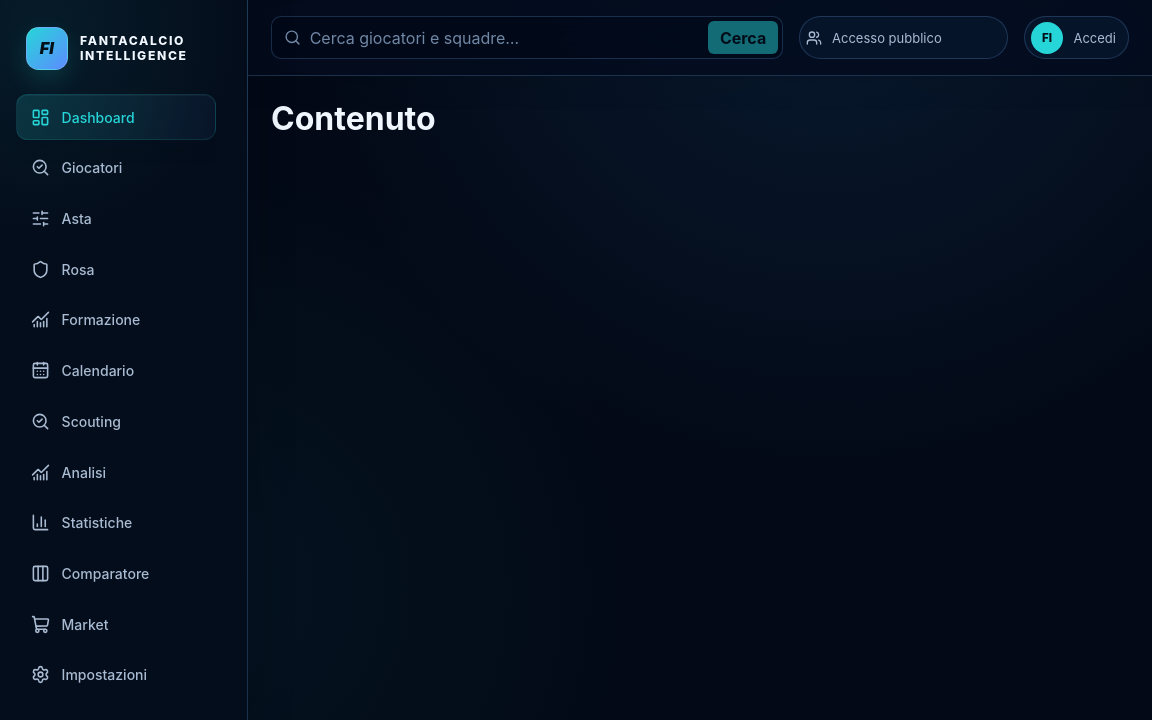
Scenario: P01 global search › supporta il pulsante, loading e zero risultati
The image size is (1152, 720).
Type "Nessuno" into the search field at (527, 38), box [271,16,783,59]
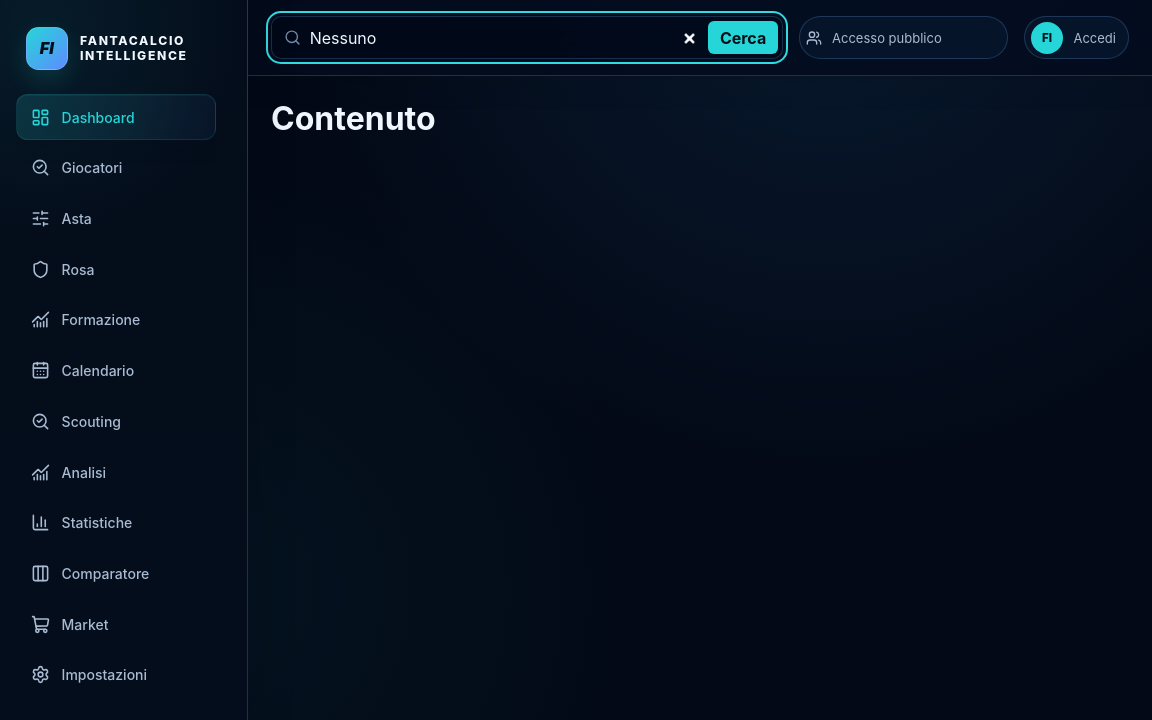
Click the button with aria-label "Avvia ricerca" at (743, 38), box [708,21,778,54]
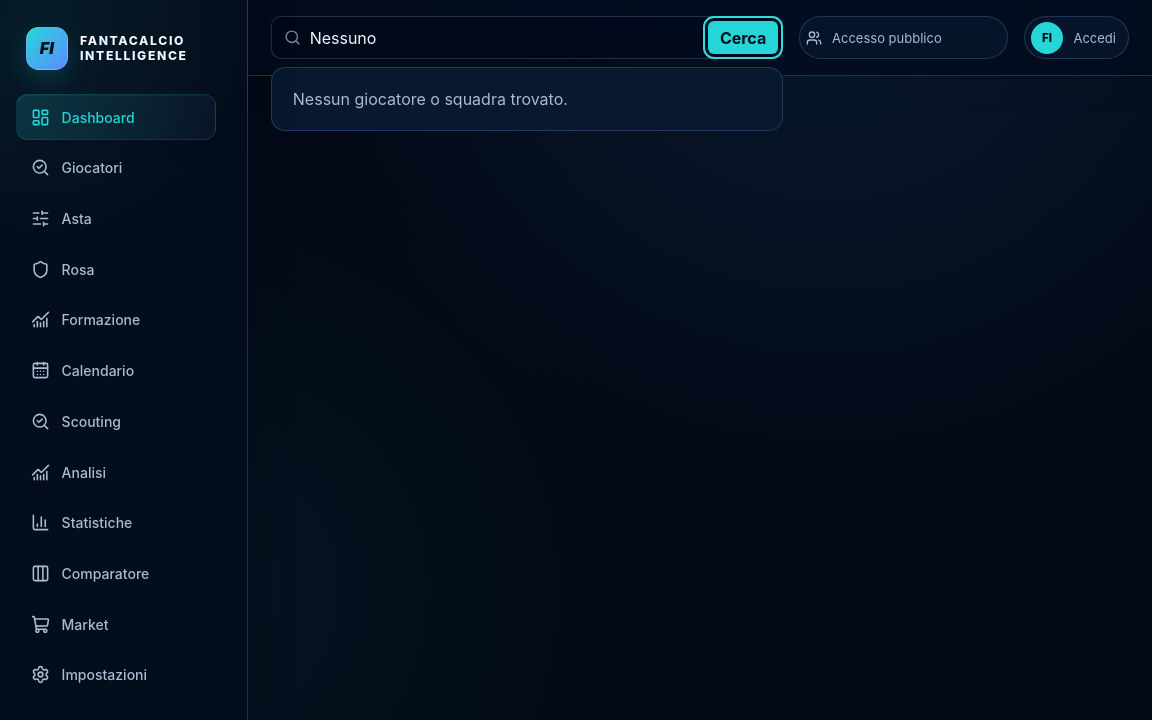
expect the text "Nessun giocatore o squadra trovato." is shown: met, box [293,89,568,109]
